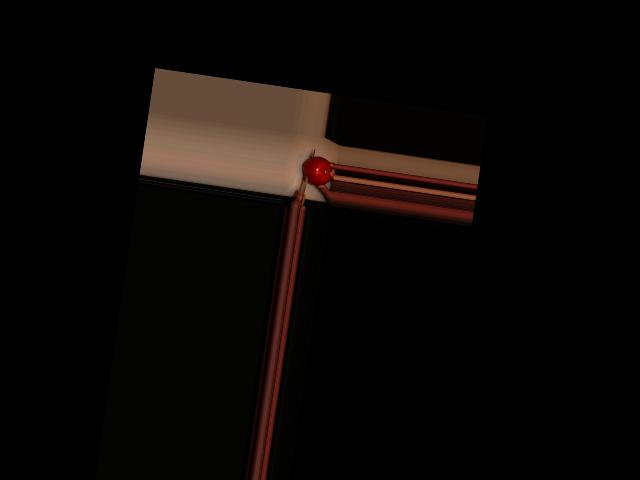tomato: (300, 154, 333, 186)
